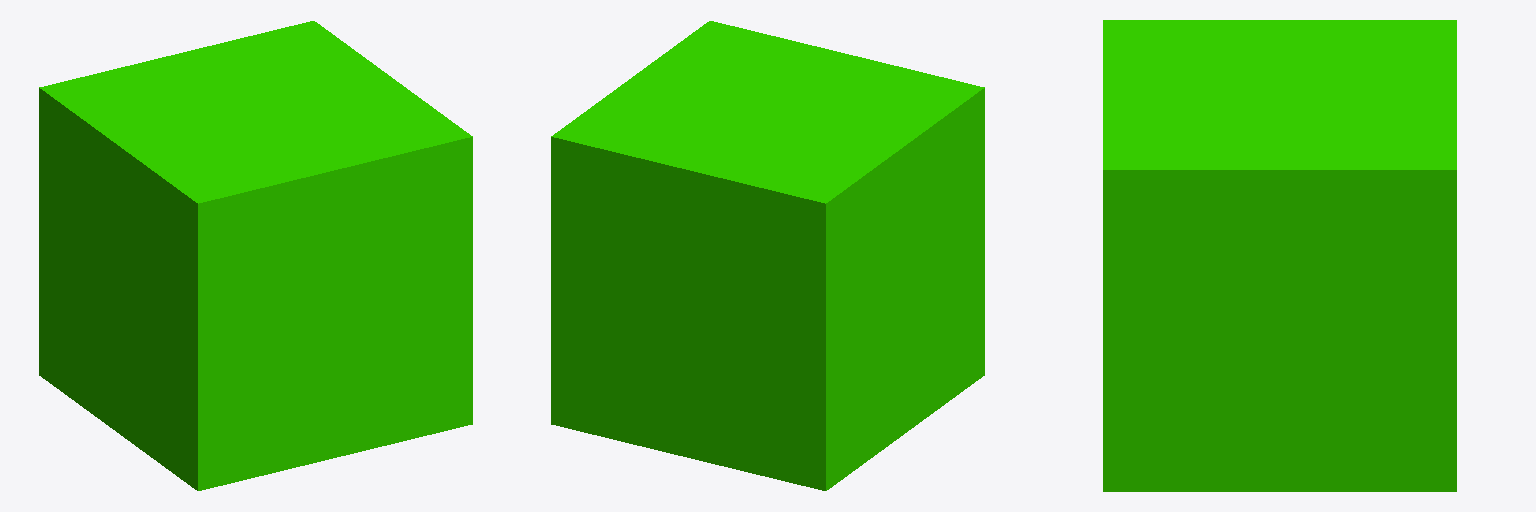
The robot description file, URDF, robot "random_box":
<?xml version='1.0' encoding='UTF-8'?>
<robot name="random_box">
  <link name="box">
    <visual>
      <geometry>
        <box size="0.05 0.05 0.05"/>
      </geometry>
      <material name="color">
        <color rgba="0.24136897618387543 0.9 0 1"/>
      </material>
    </visual>
    <collision>
      <geometry>
        <box size="0.05 0.05 0.05"/>
      </geometry>
    </collision>
  </link>
</robot>

--- Facts derived from the render (not from the file) ---
Views: 3 orthographic renders of the robot side by side, from view 1: azimuth 30°, elevation 25°; view 2: azimuth 150°, elevation 25°; view 3: azimuth 270°, elevation 25°.
Model random_box with 1 links and 0 joints (none), rooted at box, posed every joint at zero.
Links seen in each view (by area): view 1: box; view 2: box; view 3: box.
Boxes of the visible links, box(x1,y1,x2,y2) form: box: box(39, 21, 472, 490); box: box(551, 21, 984, 490); box: box(1103, 20, 1456, 491).
Size in the robot's own frame: 0.05 by 0.05 by 0.05 metres.
Geometry: primitives only (box / cylinder / sphere), no mesh files.